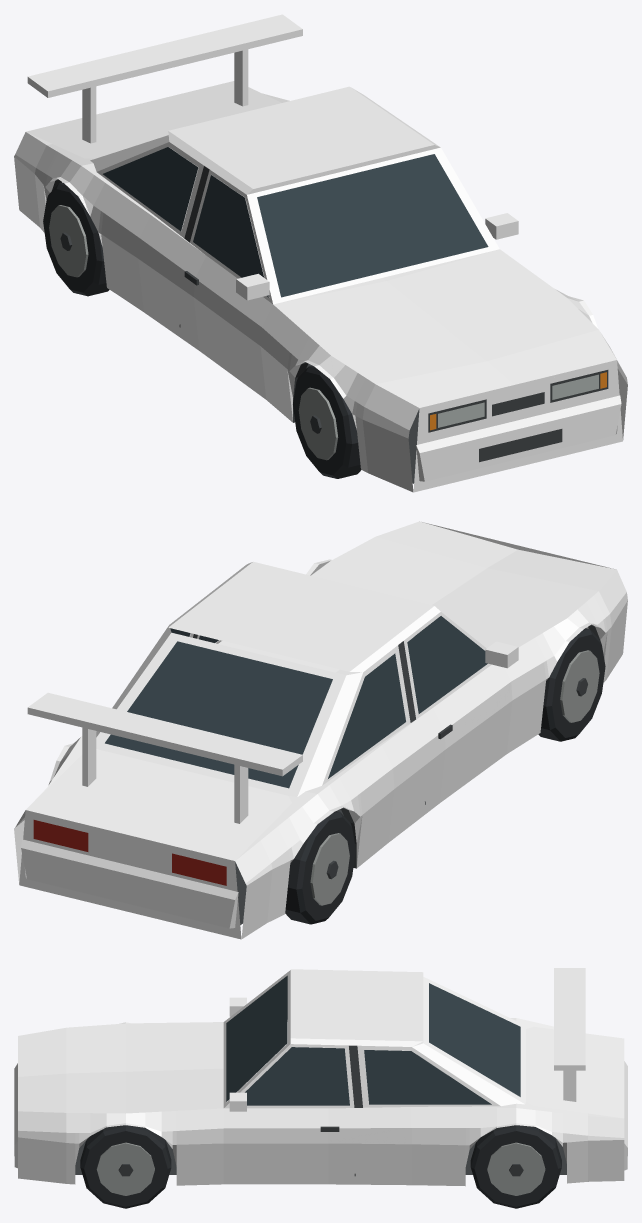
File: mizuchi_chidori_corrida_iii.glb
The picture shows the model from 3 angles, top to bottom: view 1: azimuth 30°, elevation 25°; view 2: azimuth 150°, elevation 25°; view 3: azimuth 270°, elevation 25°; orthographic projection. The views are drawn at different scales.
Parts seen in each view (by area): view 1: mizuchi_chidori_corrida_iii; view 2: mizuchi_chidori_corrida_iii; view 3: mizuchi_chidori_corrida_iii.
Boxes of the visible parts, box(x1,y1,x2,y2) form: mizuchi_chidori_corrida_iii: box(14, 14, 627, 492); mizuchi_chidori_corrida_iii: box(14, 521, 627, 939); mizuchi_chidori_corrida_iii: box(14, 968, 627, 1208).
Size of the model in its own units: 1.7 by 1.2 by 4.26.
8 materials, 1 textured.
